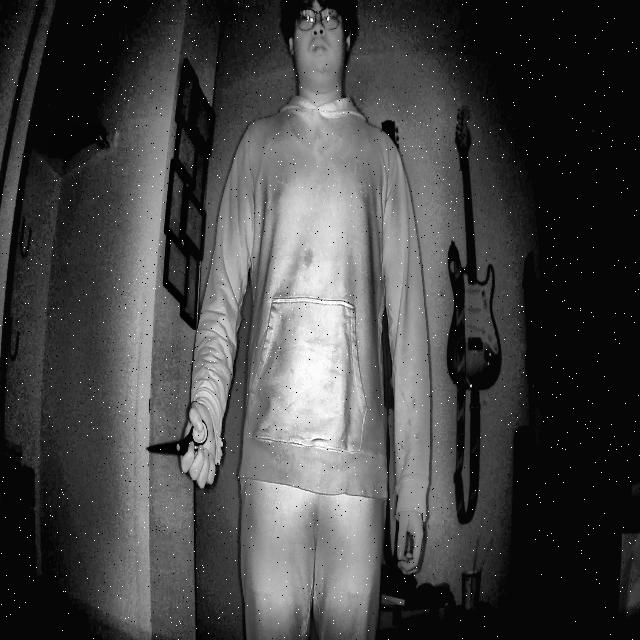scissors: (143, 401, 231, 494)
